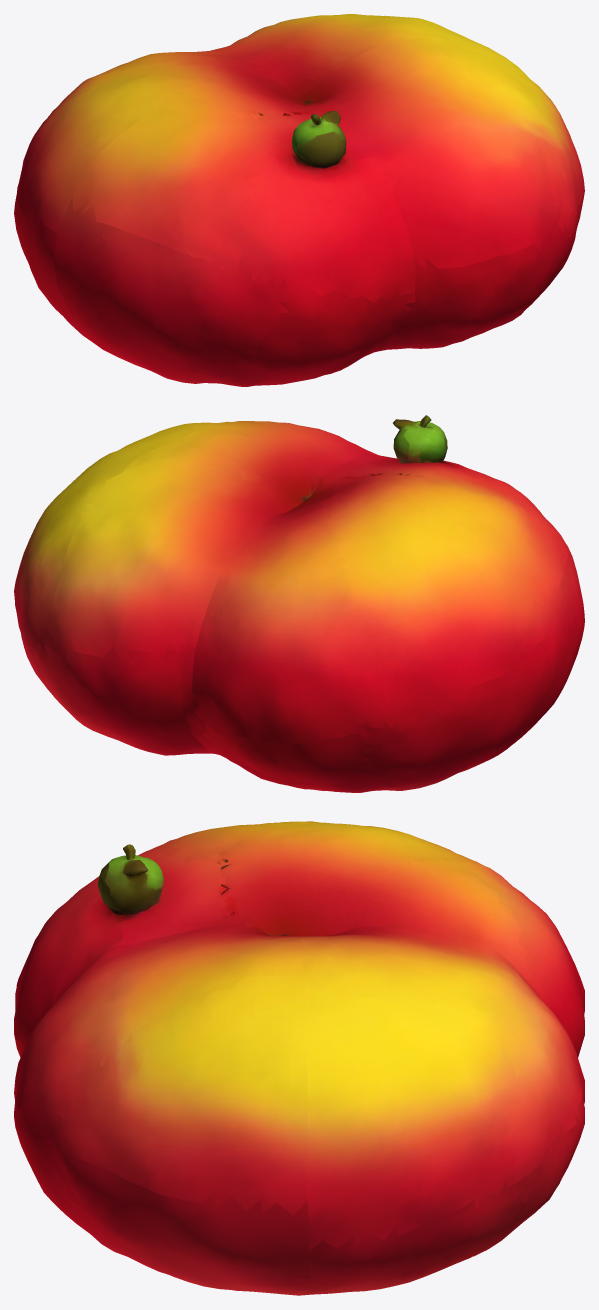
Rendered from s1_gen_apple.glb.
3 renders of one model, top to bottom at view 1: azimuth 30°, elevation 25°; view 2: azimuth 150°, elevation 25°; view 3: azimuth 270°, elevation 25°, orthographic. The views are drawn at different scales.
Bounding box in the file's own units: 1.91 × 1.05 × 1.58.
Materials: 1 (1 with a texture image).
